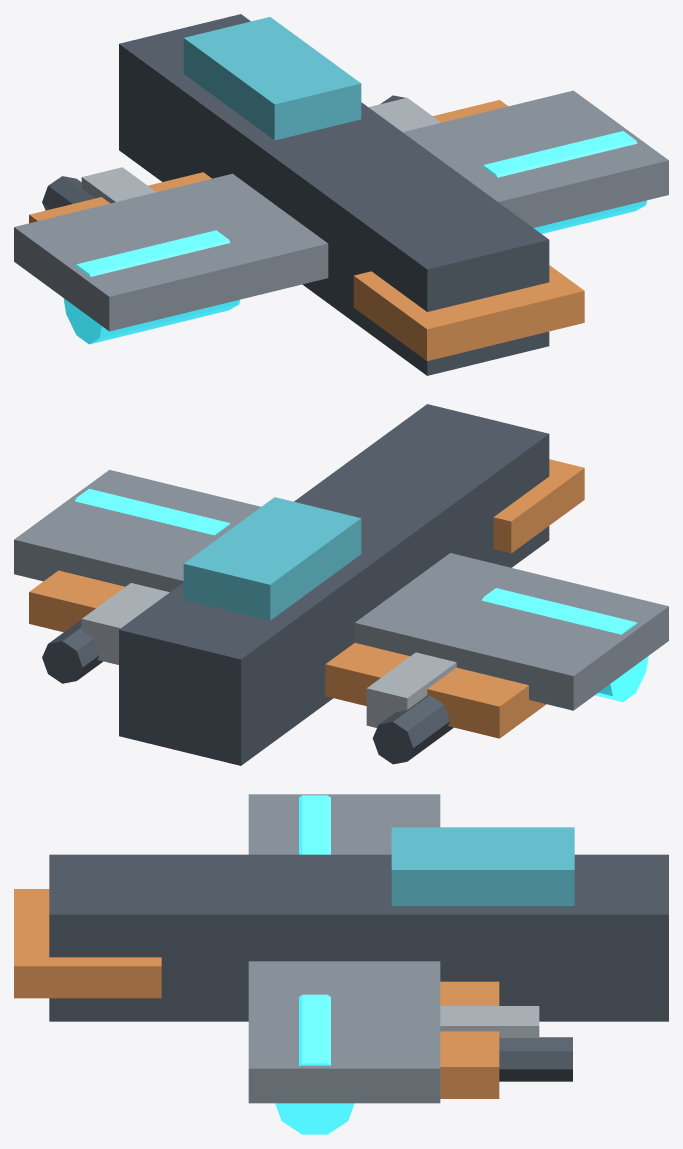
The model's file is banshee.glb.
3 views of the same model, one above another, from view 1: azimuth 30°, elevation 25°; view 2: azimuth 150°, elevation 25°; view 3: azimuth 270°, elevation 25° (orthographic).
Visible parts, largest first — view 1: detail_000, detail_002, detail_001, detail_003, detail_004, detail_006, detail_008, detail_005, detail_007, detail_009; view 2: detail_000, detail_002, detail_001, detail_008, detail_003, detail_005, detail_004, detail_009, detail_007, detail_006, detail_010; view 3: detail_000, detail_002, detail_001, detail_003, detail_008, detail_006, detail_010, detail_007, detail_004.
Part boxes in pixels (bbox=[...]): detail_000: bbox=[119, 14, 549, 375]; detail_002: bbox=[14, 90, 668, 331]; detail_001: bbox=[183, 17, 361, 140]; detail_003: bbox=[353, 265, 584, 361]; detail_004: bbox=[63, 230, 239, 344]; detail_006: bbox=[482, 131, 646, 233]; detail_008: bbox=[29, 100, 507, 223]; detail_005: bbox=[81, 167, 156, 203]; detail_007: bbox=[368, 97, 440, 132]; detail_009: bbox=[42, 176, 94, 210]; detail_000: bbox=[119, 404, 549, 765]; detail_002: bbox=[14, 470, 668, 710]; detail_001: bbox=[183, 497, 361, 620]; detail_008: bbox=[29, 570, 546, 738]; detail_003: bbox=[493, 459, 584, 553]; detail_005: bbox=[366, 652, 456, 727]; detail_004: bbox=[482, 588, 648, 701]; detail_009: bbox=[372, 695, 453, 764]; detail_007: bbox=[81, 583, 169, 664]; detail_006: bbox=[75, 488, 230, 535]; detail_010: bbox=[42, 619, 103, 683]; detail_000: bbox=[49, 854, 668, 1021]; detail_002: bbox=[248, 794, 440, 1103]; detail_001: bbox=[391, 827, 574, 905]; detail_003: bbox=[14, 889, 161, 998]; detail_008: bbox=[440, 981, 499, 1098]; detail_006: bbox=[275, 994, 354, 1134]; detail_010: bbox=[499, 1037, 572, 1081]; detail_007: bbox=[440, 1006, 539, 1037]; detail_004: bbox=[299, 795, 330, 854].
Size of the model in its own units: 2.2 by 0.5681 by 2.22.
